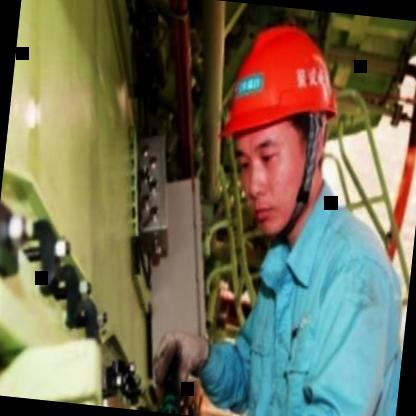helmet: (199, 8, 359, 250)
